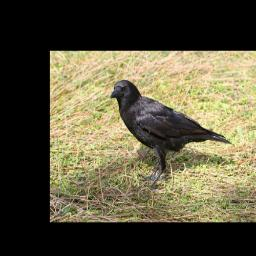Crow: (111, 79, 235, 191)
